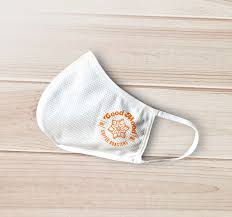mask: (26, 40, 205, 179)
